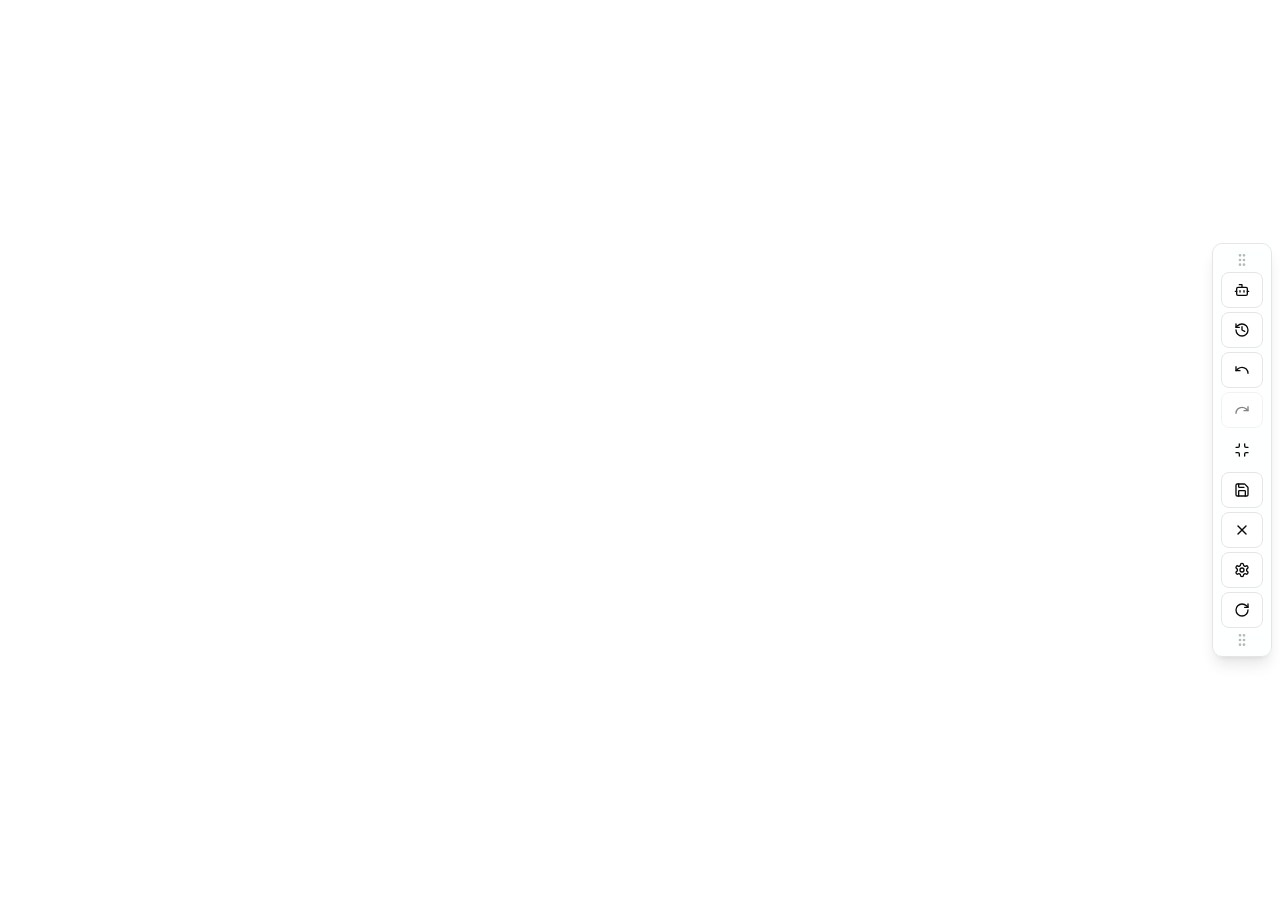
Toolbar discard confirmation › keeps the page when the confirmation is cancelled
Step 1. Click the button named "Discard" → (1242, 530), box [1221,512,1263,548]
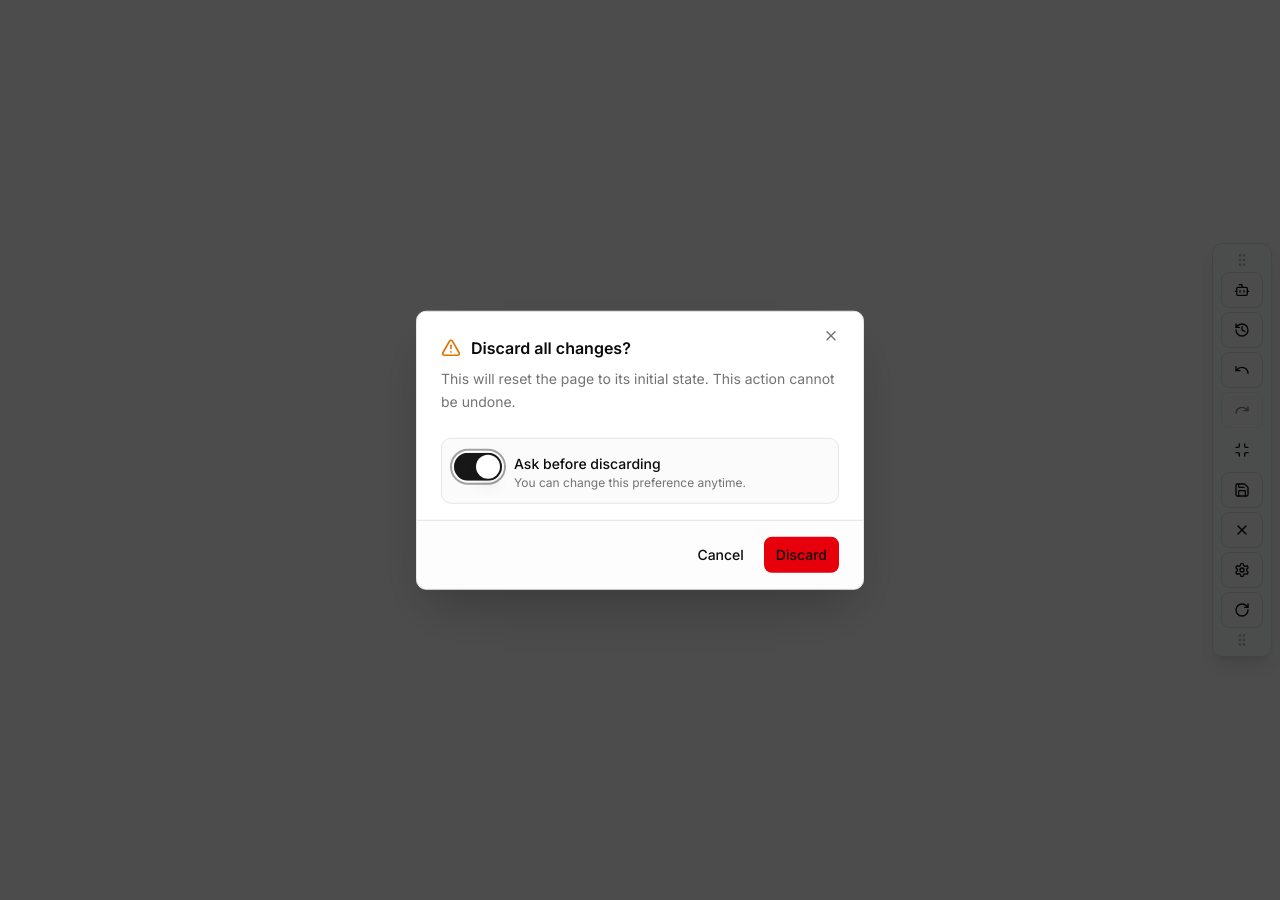
Step 2. Click the button "Cancel" → (721, 554), box [685,536,756,572]
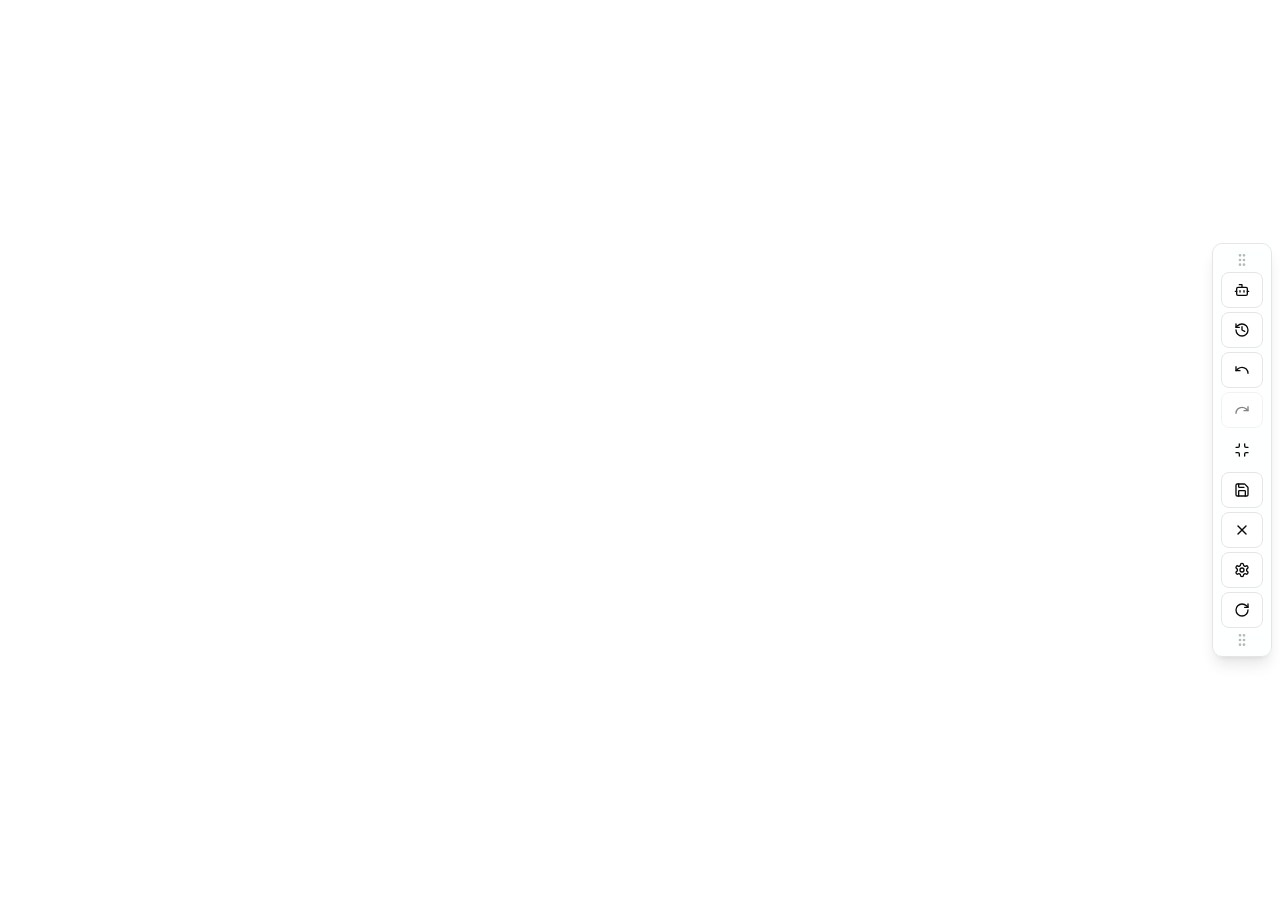
Expected: the dialog is gone
